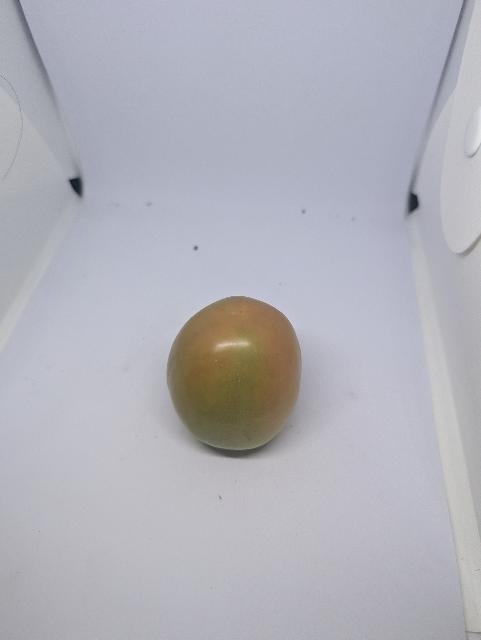turning: (157, 286, 322, 456)
